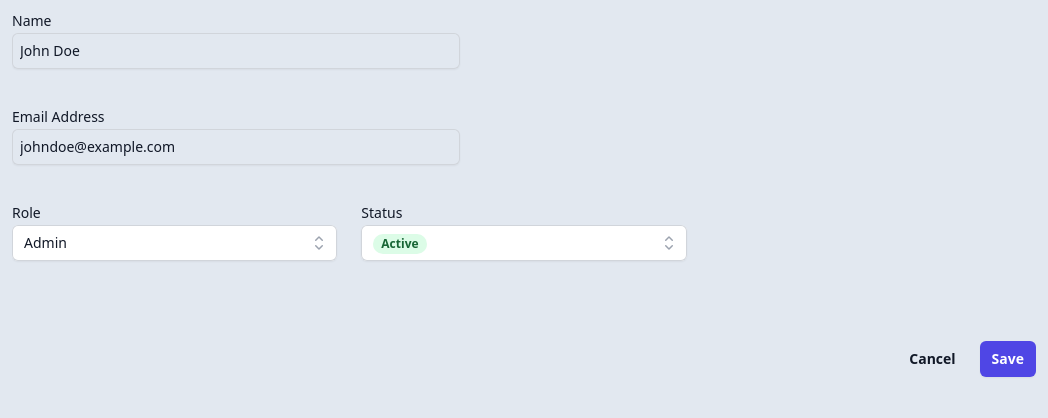
Test case: EditUserForm › should display error message when email is not provided
Clear the field labelled "Email Address" at (236, 147), box top-left (12, 129), bottom-right (460, 165)
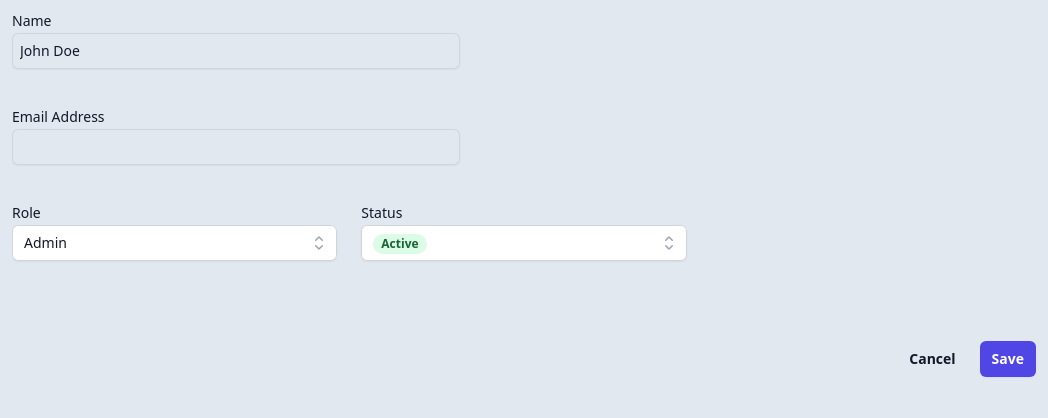
Submit the form from the button "Save", box top-left (980, 341), bottom-right (1036, 377)
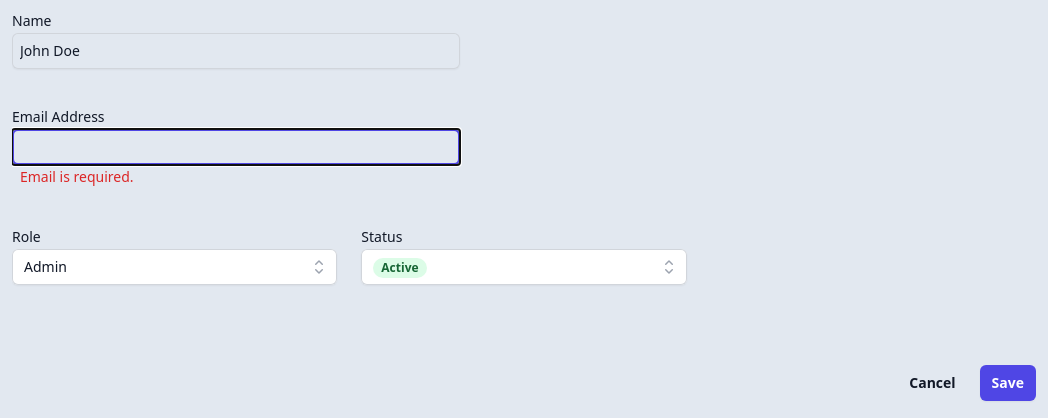
Check: the text "Email is required." is shown, box top-left (20, 167), bottom-right (134, 186)
